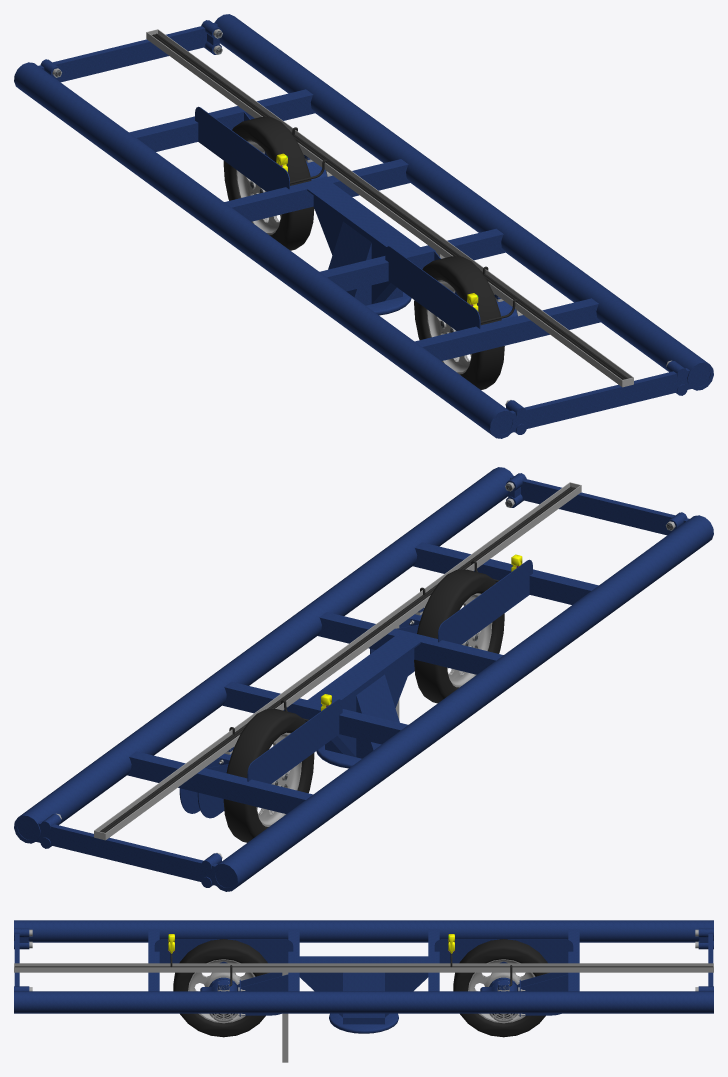
File: Transport.dae
3 renders of one model, top to bottom at view 1: azimuth 30°, elevation 25°; view 2: azimuth 150°, elevation 25°; view 3: azimuth 270°, elevation 25°, orthographic. The views are drawn at different scales.
Visible parts, largest first — view 1: Track (×7), Mid_Detail (×4), wheel0, wheel1, High_Detail (×2); view 2: Track (×7), Mid_Detail (×4), wheel0, wheel1, High_Detail (×3); view 3: Track (×10), Mid_Detail (×4), wheel0 (×3), wheel1 (×3), High_Detail (×3).
Boxes of the visible parts, <box> form: Track (×7): <box>14,14,713,438</box>; Mid_Detail (×4): <box>146,29,633,387</box>; wheel0: <box>414,256,504,389</box>; wheel1: <box>223,116,314,250</box>; High_Detail (×2): <box>153,33,627,379</box>; Track (×7): <box>14,467,713,891</box>; Mid_Detail (×4): <box>94,482,581,840</box>; wheel0: <box>414,569,504,703</box>; wheel1: <box>223,709,314,842</box>; High_Detail (×3): <box>100,486,574,832</box>; Track (×10): <box>14,920,713,1033</box>; Mid_Detail (×4): <box>14,939,713,1062</box>; wheel0 (×3): <box>173,939,269,1037</box>; wheel1 (×3): <box>453,939,549,1037</box>; High_Detail (×3): <box>14,966,713,1016</box>.
Size of the model in its own units: 53.48 by 197 by 33.67.
9 materials, 3 textured.
